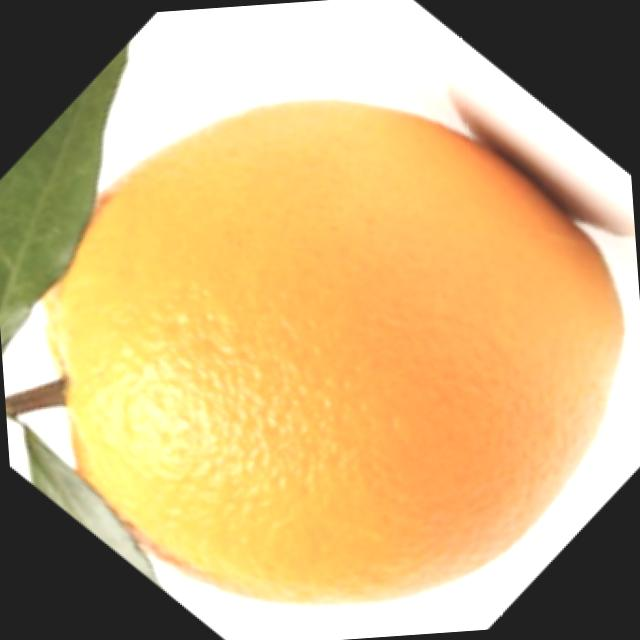orange: (6, 49, 640, 608)
